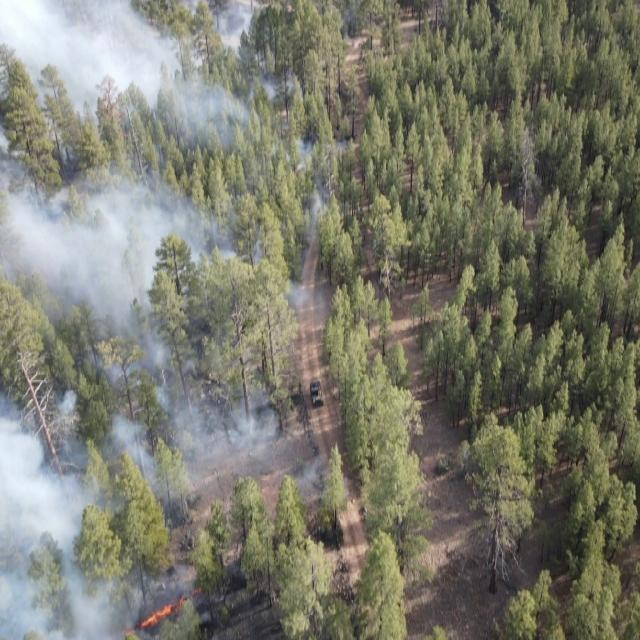fire: (114, 588, 210, 638)
smoke: (0, 149, 307, 450), (0, 0, 299, 149), (1, 451, 186, 640), (191, 452, 342, 501), (288, 139, 349, 232)
